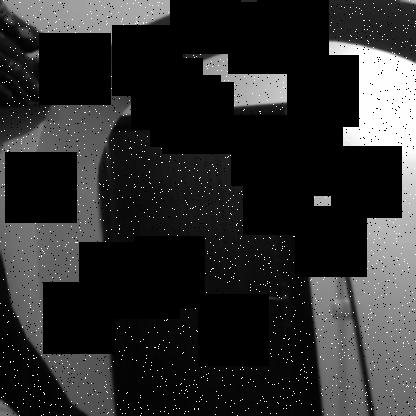Porte: (90, 100, 326, 416)
